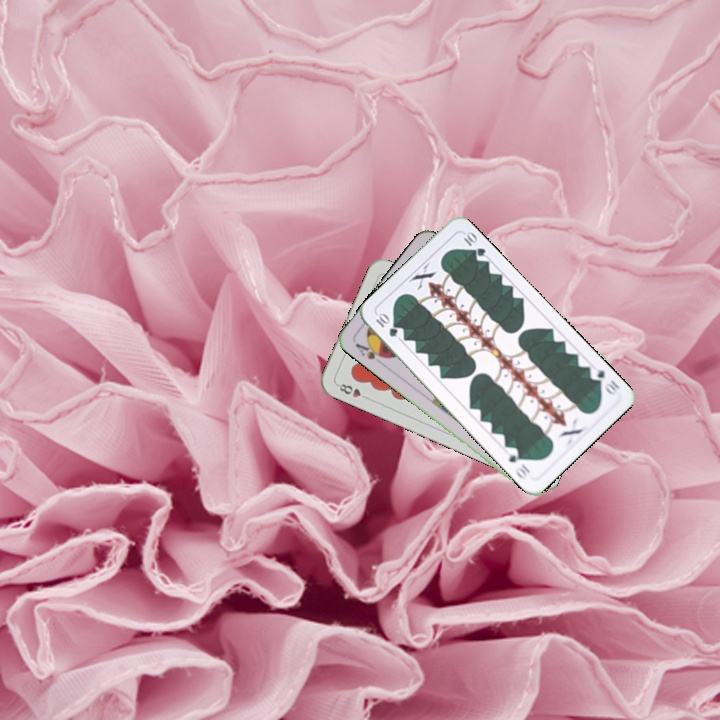G10: (585, 363, 622, 397), (372, 309, 400, 340)
H8: (333, 379, 372, 402)
SA: (351, 338, 390, 362)
